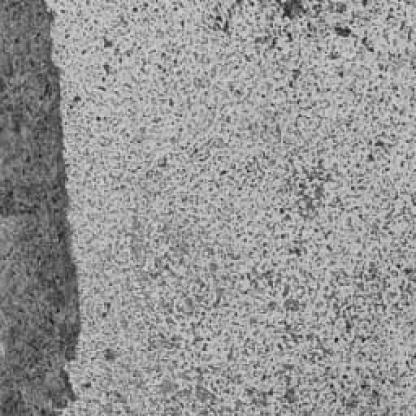cementitious_debris: (4, 1, 413, 414)
